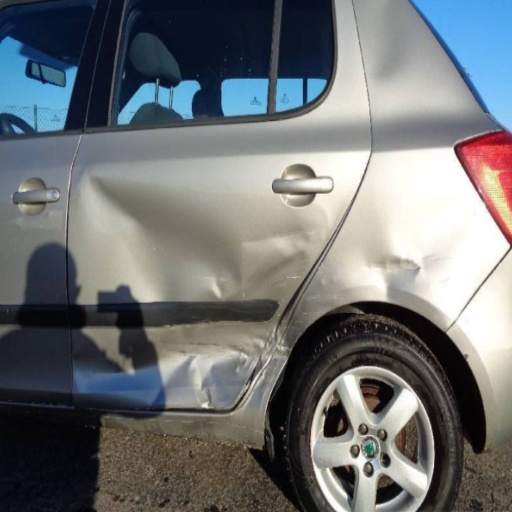dent: (72, 169, 330, 409), (340, 218, 464, 312), (240, 304, 306, 409), (361, 0, 419, 87), (157, 413, 219, 442), (317, 275, 337, 287)
rust: (65, 420, 265, 450), (477, 441, 495, 455)
scratch: (97, 412, 264, 437), (143, 339, 224, 359), (240, 229, 321, 246), (371, 253, 456, 267), (8, 211, 63, 229), (304, 293, 343, 303), (278, 320, 306, 333), (275, 274, 306, 284), (200, 276, 230, 283), (436, 276, 453, 286), (231, 345, 250, 353), (277, 344, 292, 353), (301, 311, 324, 316)
